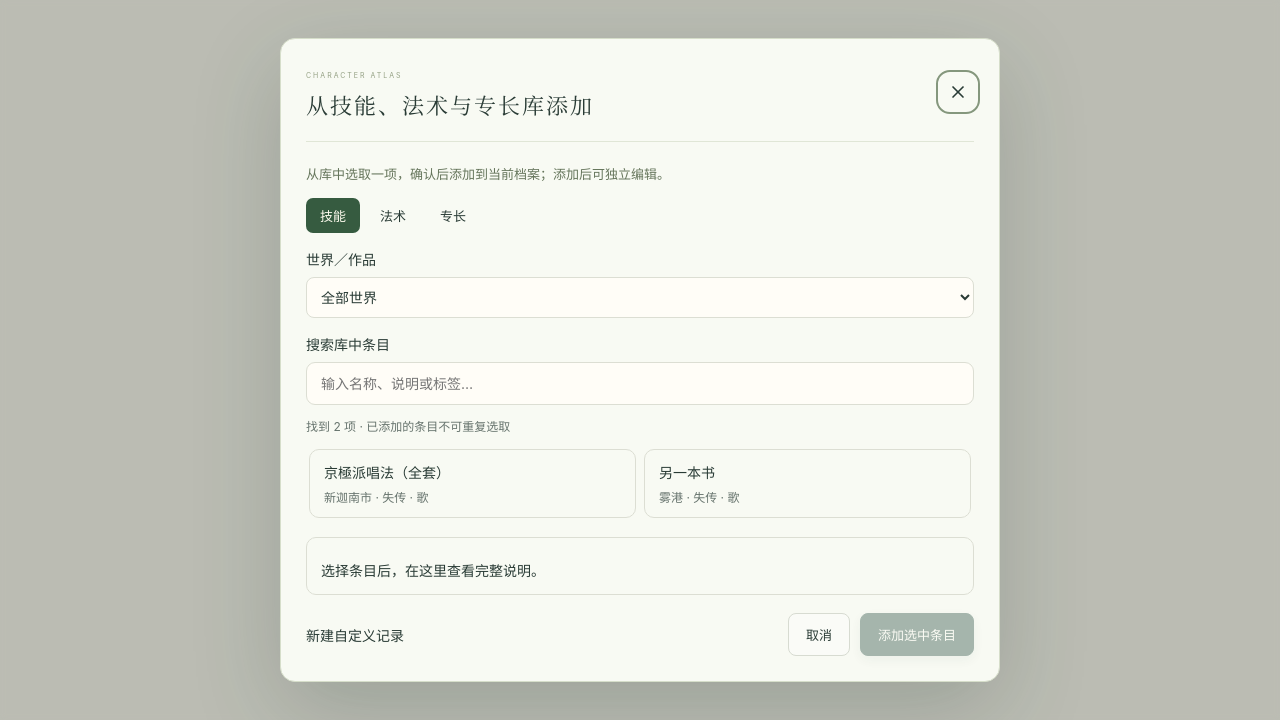
添加弹窗可以筛选世界，条目搜索包含世界名
Select "雾港" in the dropdown named "选取条目世界" at point(640, 298), box x1=306 y1=277 x2=974 y2=318
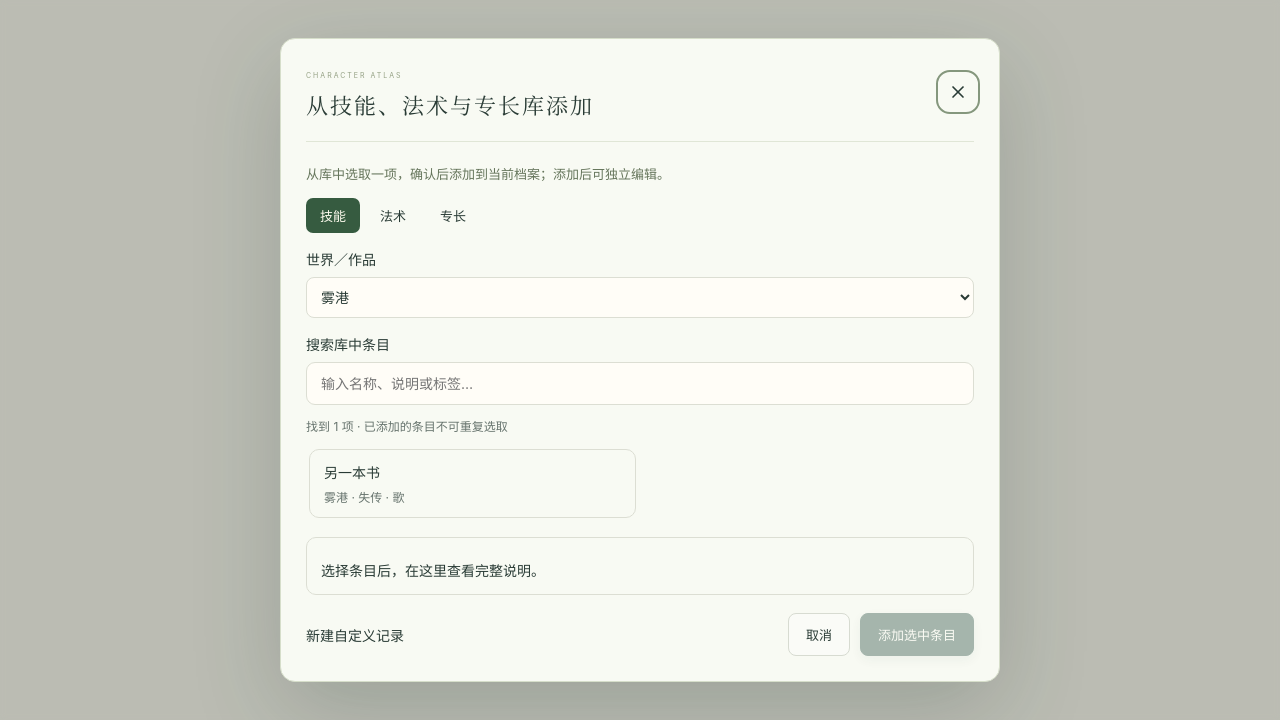
Expected: the button "另一本书 雾港 · 失传 · 歌" is shown, x1=309 y1=449 x2=636 y2=518
Now the button "京極派唱法" is gone
